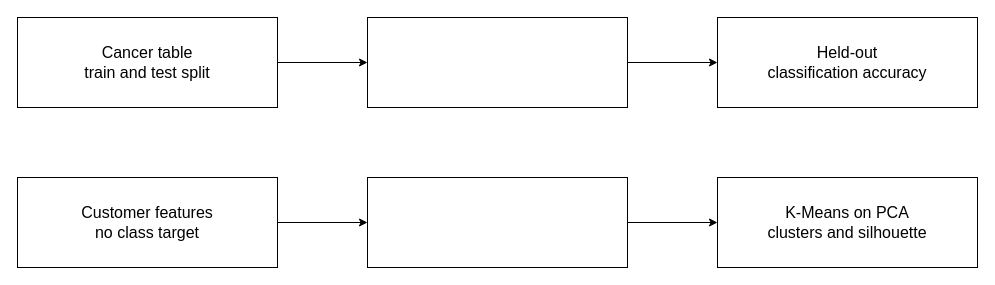
This 995x285 diagram has some shape labels left out. Each missing label, with the centre of its shape:
Scale and RBF SVC fit training rows: point 497,62
Scale then PCA 2 components: point 497,222
